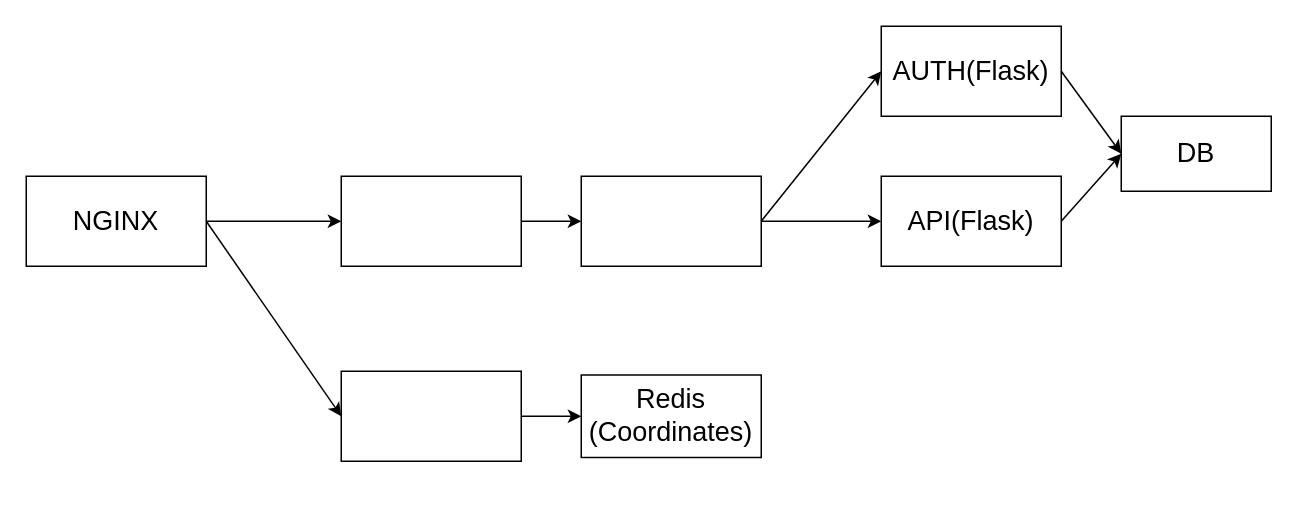
Image size: 1298x507. Some labels were removed from this diagram. Each missing label, with the centre of its shape:
"APP(Flask) Dispatcher" goes at pixel 670 220.
"uWSGI" goes at pixel 430 220.
"WebSocket (Haskell)" goes at pixel 430 415.
